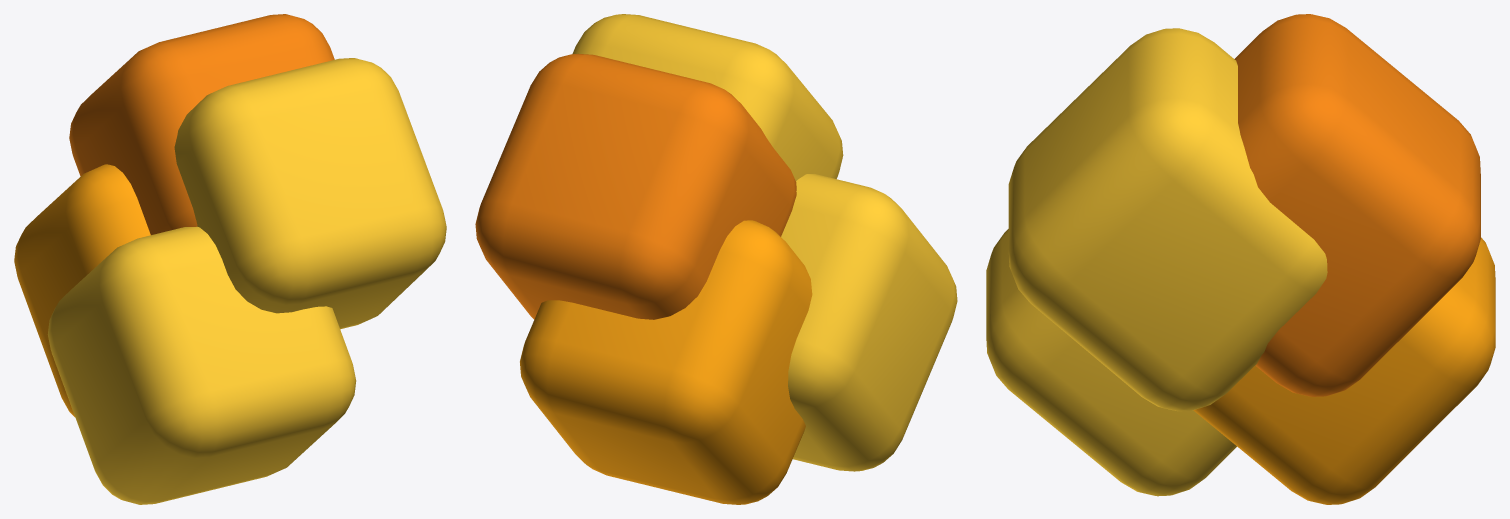
The model's file is ifc-js-log.glb.
The picture shows the model from 3 angles, left to right: view 1: azimuth 30°, elevation 25°; view 2: azimuth 150°, elevation 25°; view 3: azimuth 270°, elevation 25°; orthographic projection. The views are drawn at different scales.
Visible parts, largest first — view 1: Cube.003, Cube, Cube.001, Cube.002; view 2: Cube.001, Cube.002, Cube.003, Cube; view 3: Cube, Cube.001, Cube.002, Cube.003.
Boxes of the visible parts, x1=… form: Cube.003: x1=47, y1=226, x2=356, y2=504; Cube: x1=174, y1=58, x2=446, y2=329; Cube.001: x1=69, y1=14, x2=334, y2=234; Cube.002: x1=14, y1=164, x2=150, y2=416; Cube.001: x1=475, y1=53, x2=796, y2=319; Cube.002: x1=520, y1=220, x2=812, y2=504; Cube.003: x1=781, y1=174, x2=957, y2=471; Cube: x1=572, y1=14, x2=843, y2=181; Cube: x1=1008, y1=28, x2=1327, y2=411; Cube.001: x1=1234, y1=14, x2=1480, y2=396; Cube.002: x1=1193, y1=237, x2=1495, y2=504; Cube.003: x1=986, y1=229, x2=1236, y2=496.
Bounding box in the file's own units: 1.04 × 1.27 × 1.29.
